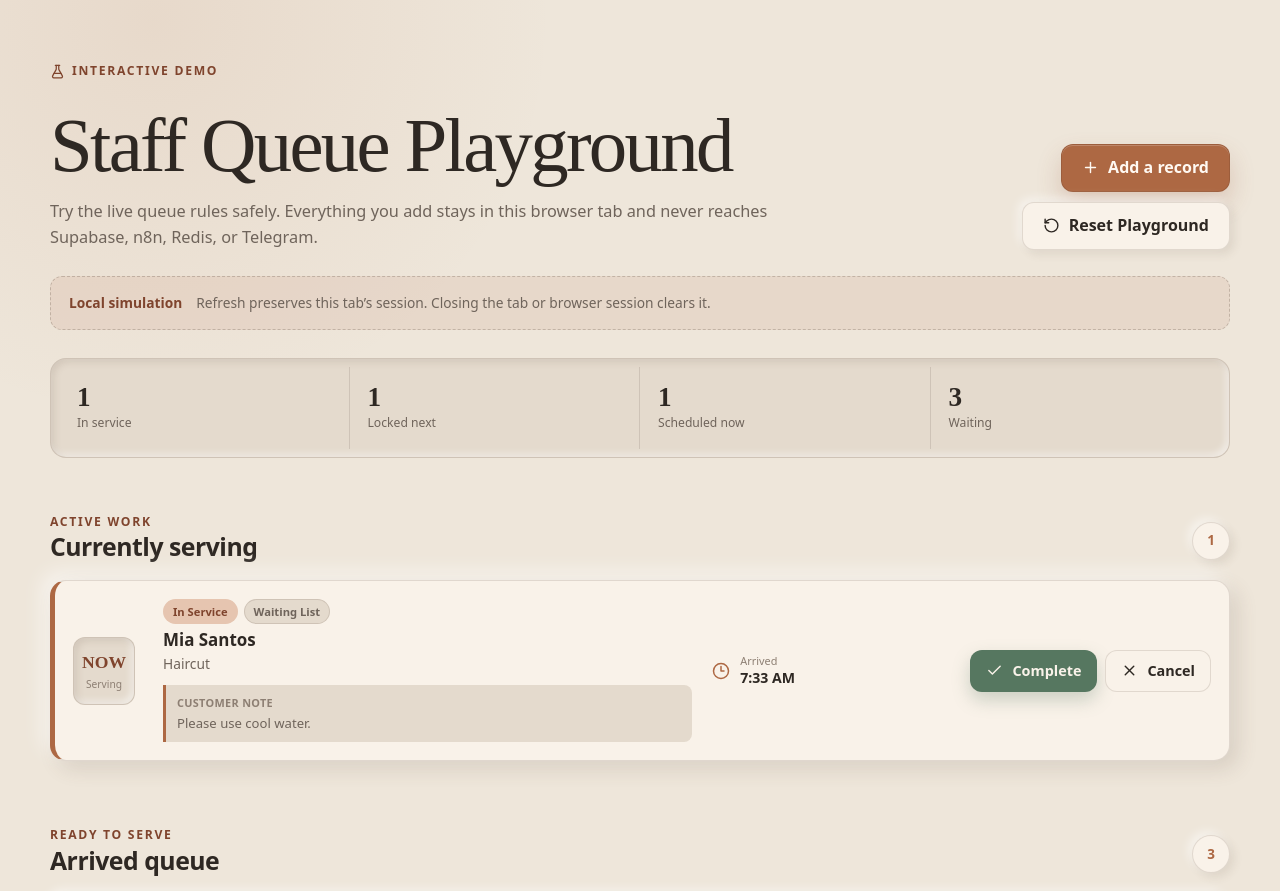
PlaygroundPage › validates and adds a local record with an explicit source
Click the button "Add a record" at (1146, 168), box [1061,144,1230,192]
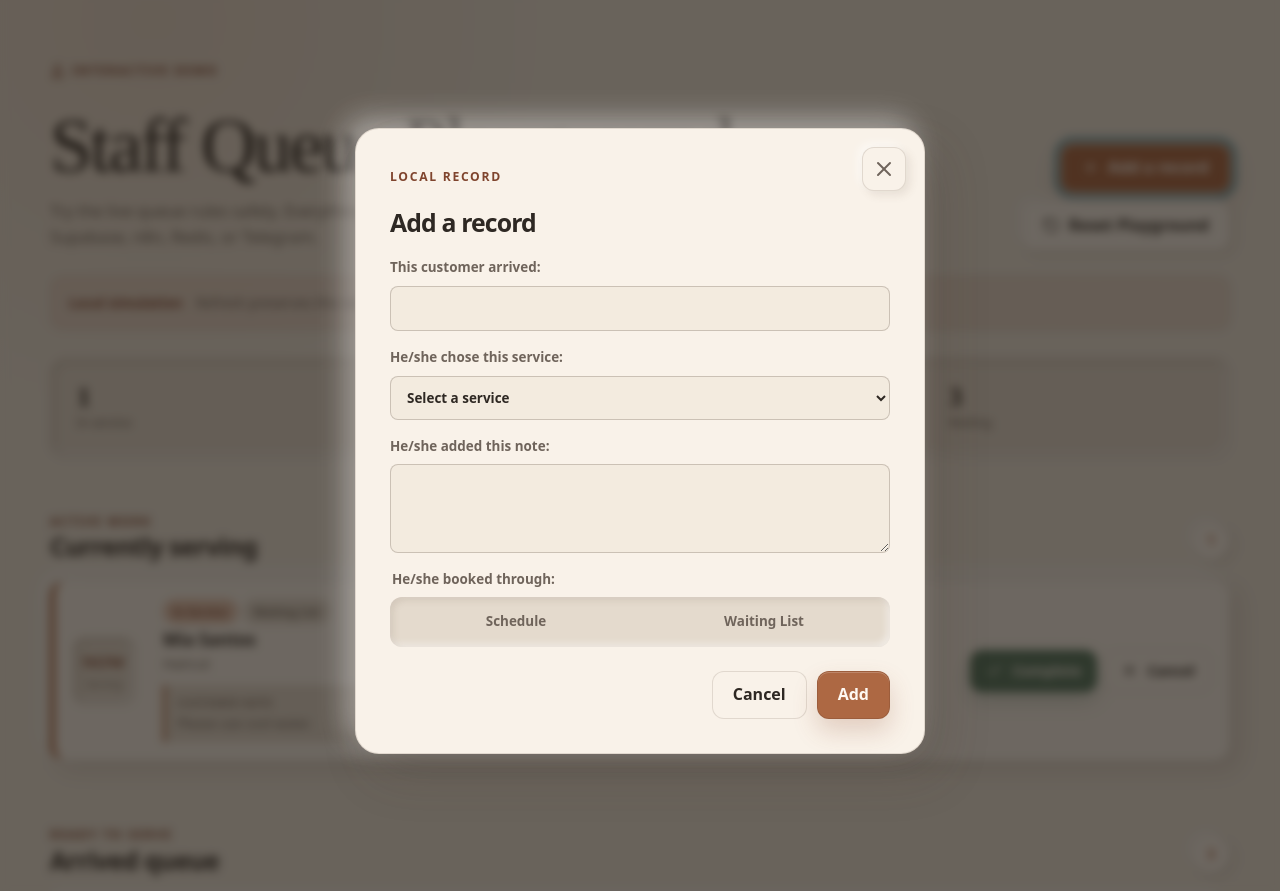
Click the button "Add" at (853, 695), box [817,671,890,719]
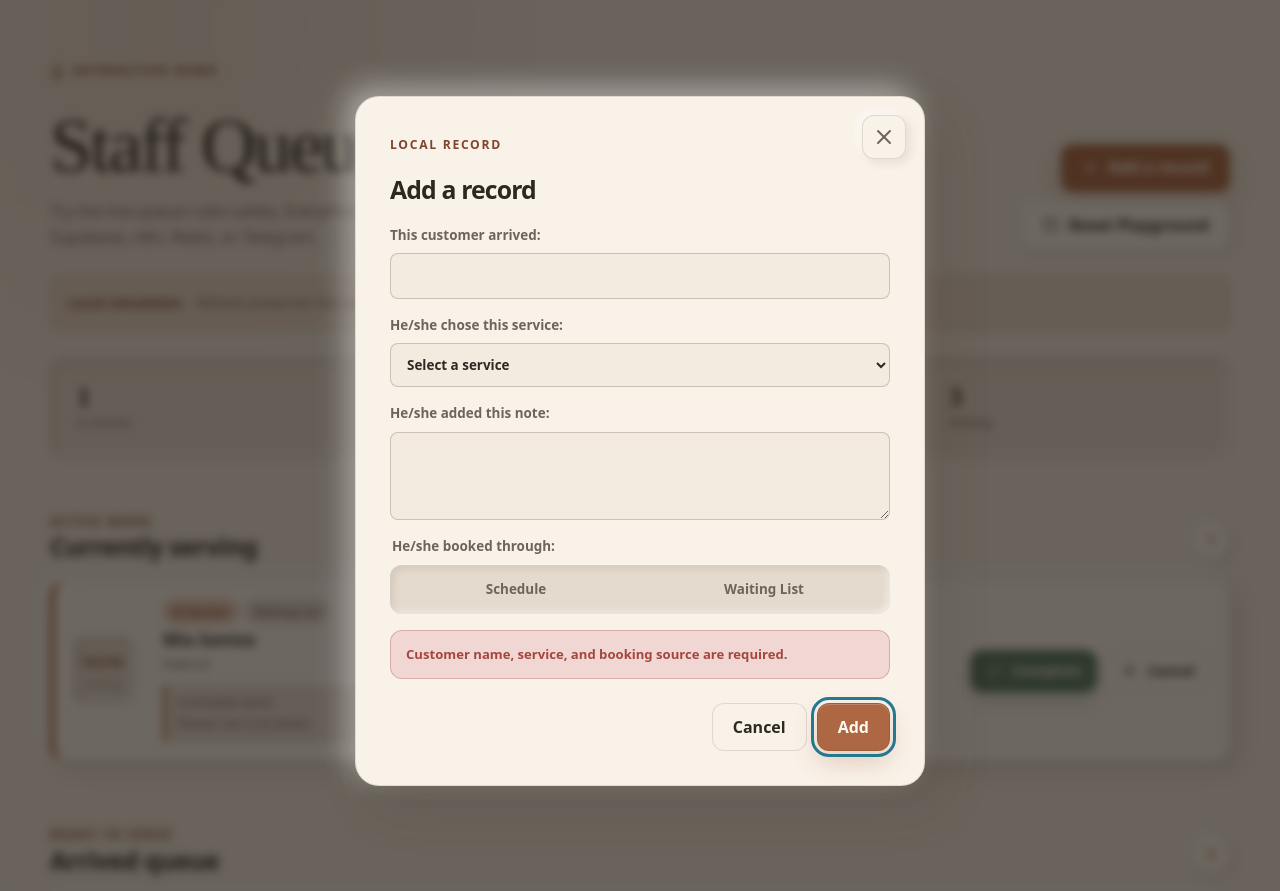
Expected: the message shows "required", [406,645,788,663]
Type "Demo Customer" into the field labelled "This customer arrived:" at (640, 276), box [390,253,890,299]
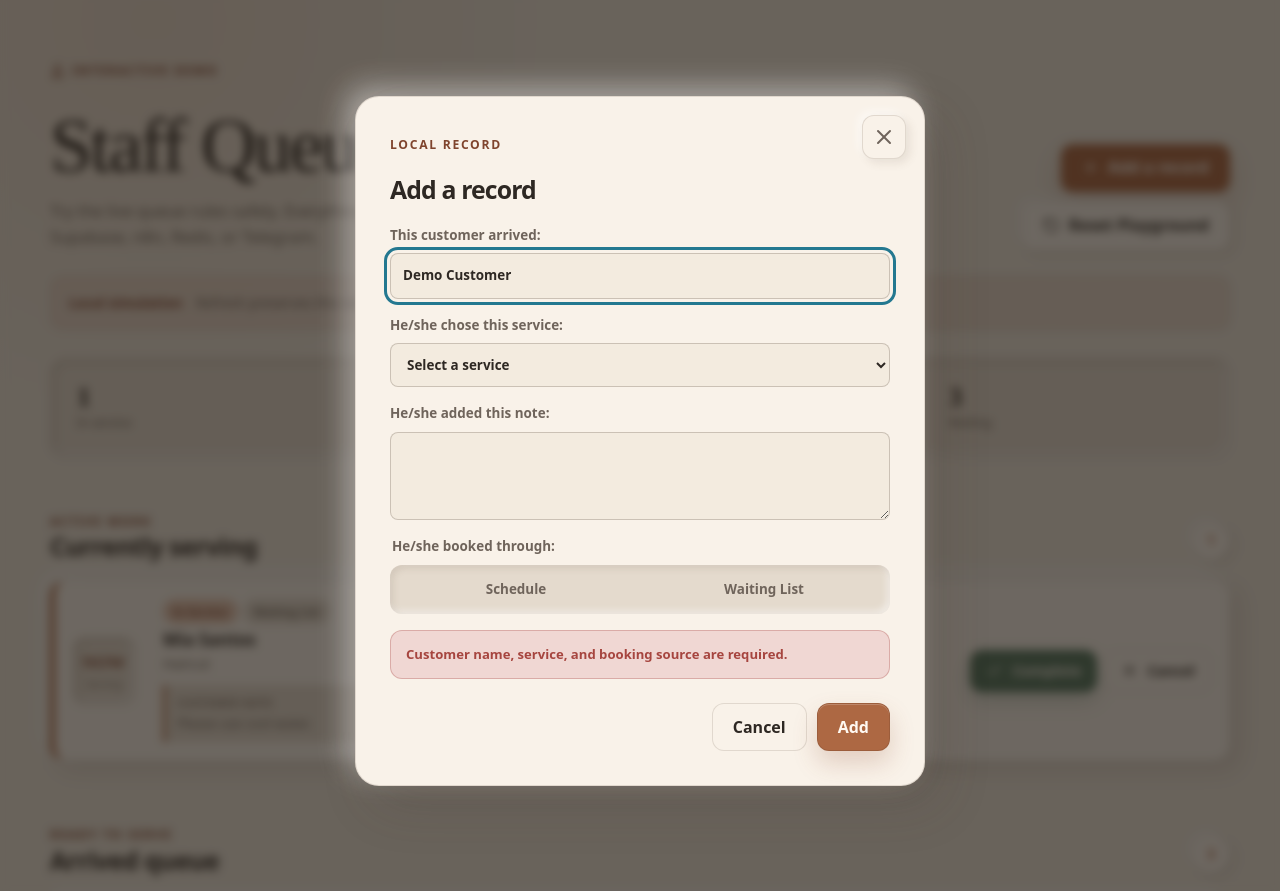
Expected: the dropdown labelled "He/she chose this service:" shows "Select a service"
Select "Haircut" in the dropdown labelled "He/she chose this service:" at (640, 365), box [390,343,890,387]
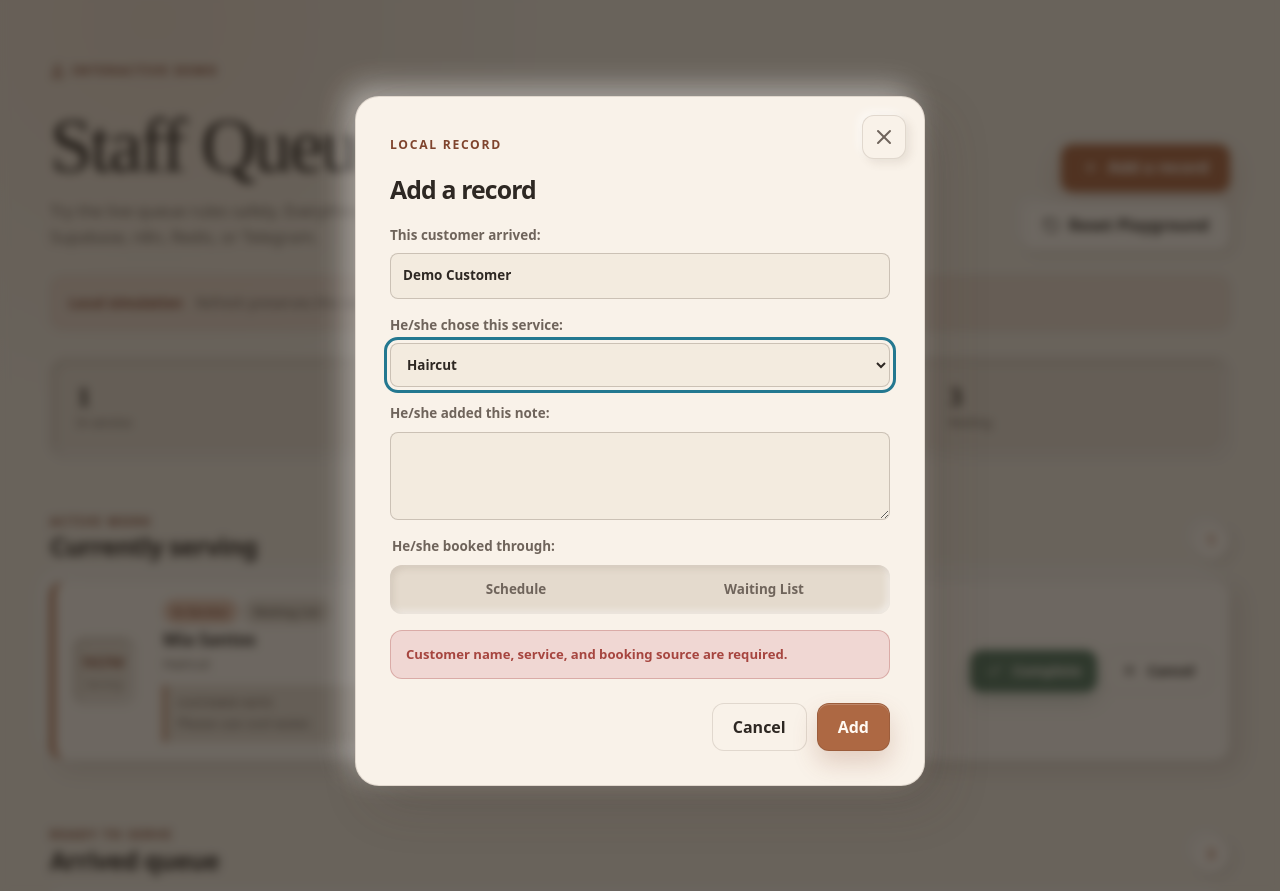
Click the button "Schedule" at (516, 590), box [394,569,638,610]
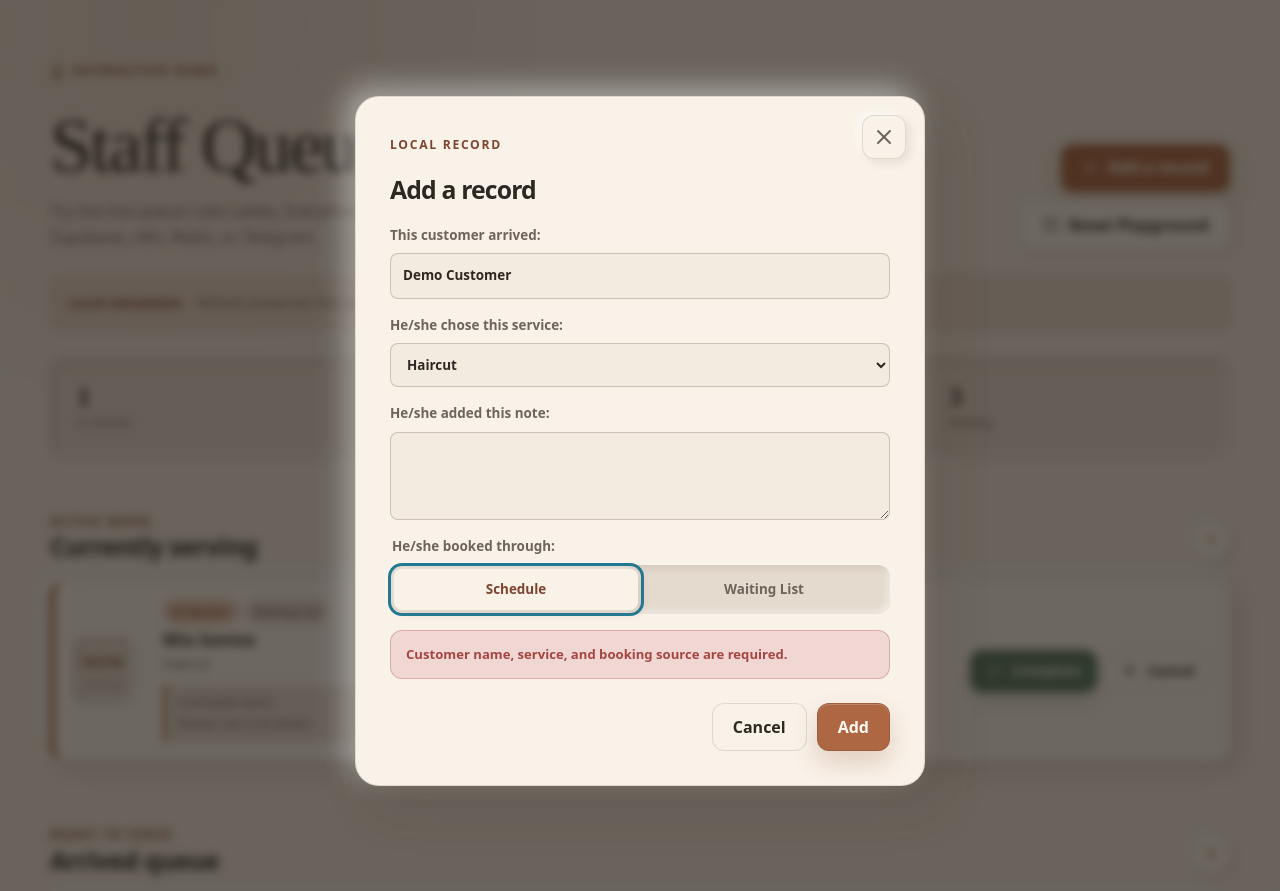
Click the button "Add" at (853, 727), box [817,703,890,751]
(page scrolled)
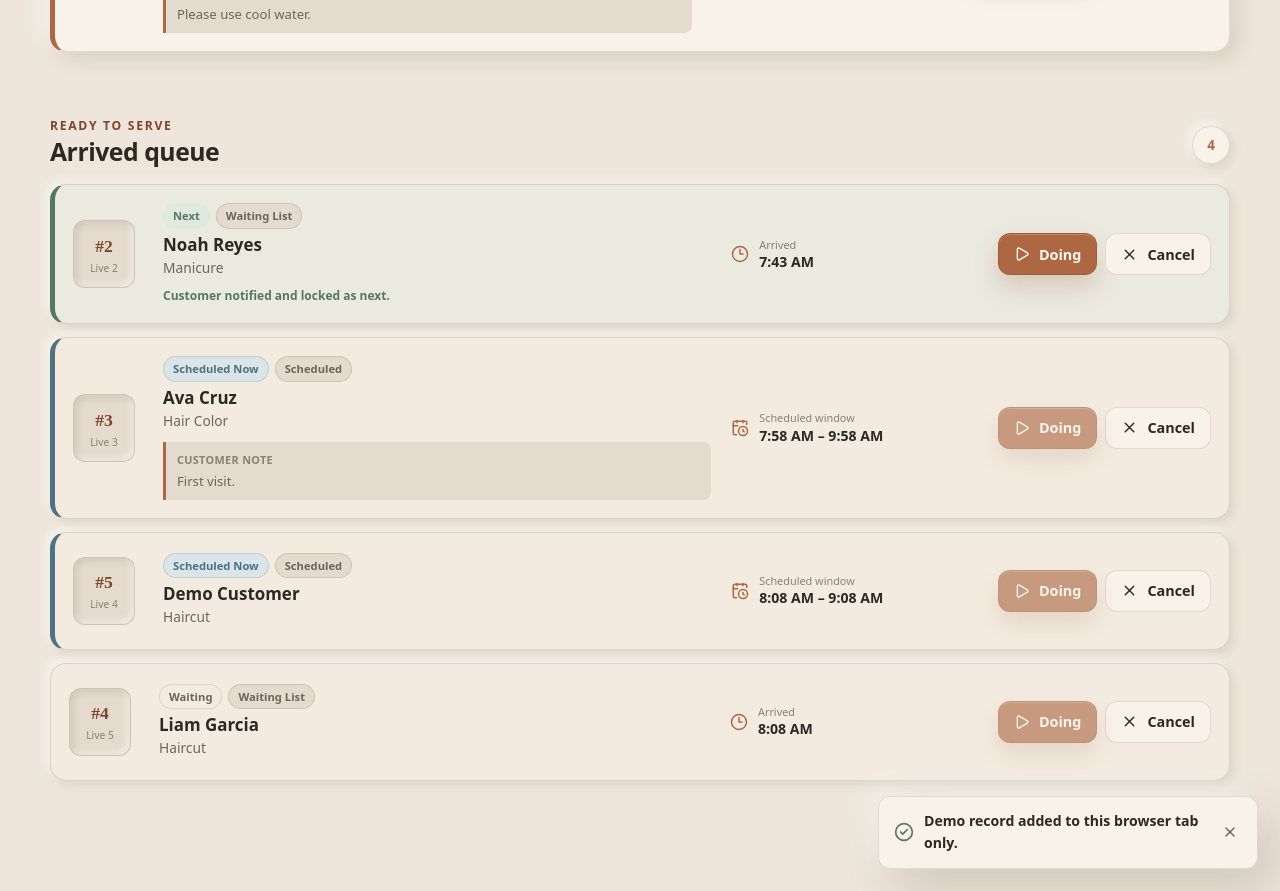
Expected: the heading "Demo Customer" is shown, [163,582,300,605]
